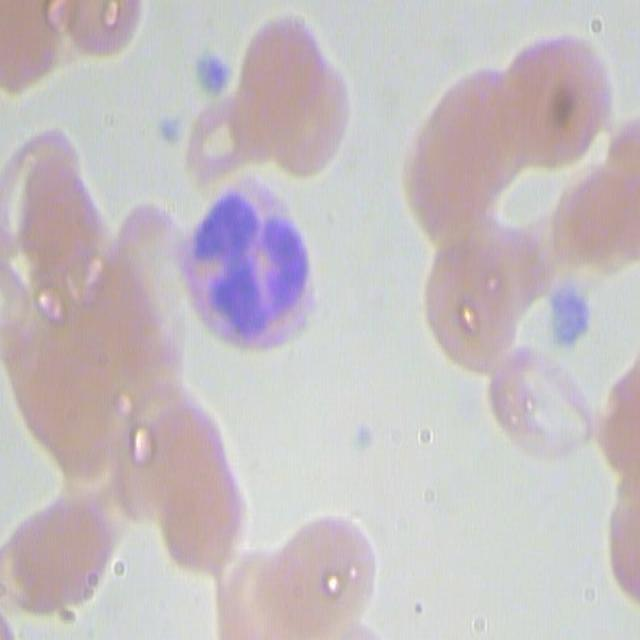RBC: (112, 381, 240, 580), (0, 116, 107, 320), (229, 0, 351, 177), (406, 65, 524, 240), (495, 23, 618, 184), (26, 336, 158, 465), (424, 228, 530, 376), (547, 110, 637, 278), (487, 341, 598, 472), (3, 500, 115, 621), (274, 508, 379, 634), (471, 148, 569, 262), (180, 93, 255, 192), (41, 0, 149, 60), (605, 464, 640, 612)
WBC: (182, 157, 323, 373)
platelets: (542, 274, 597, 368), (193, 50, 232, 104)
